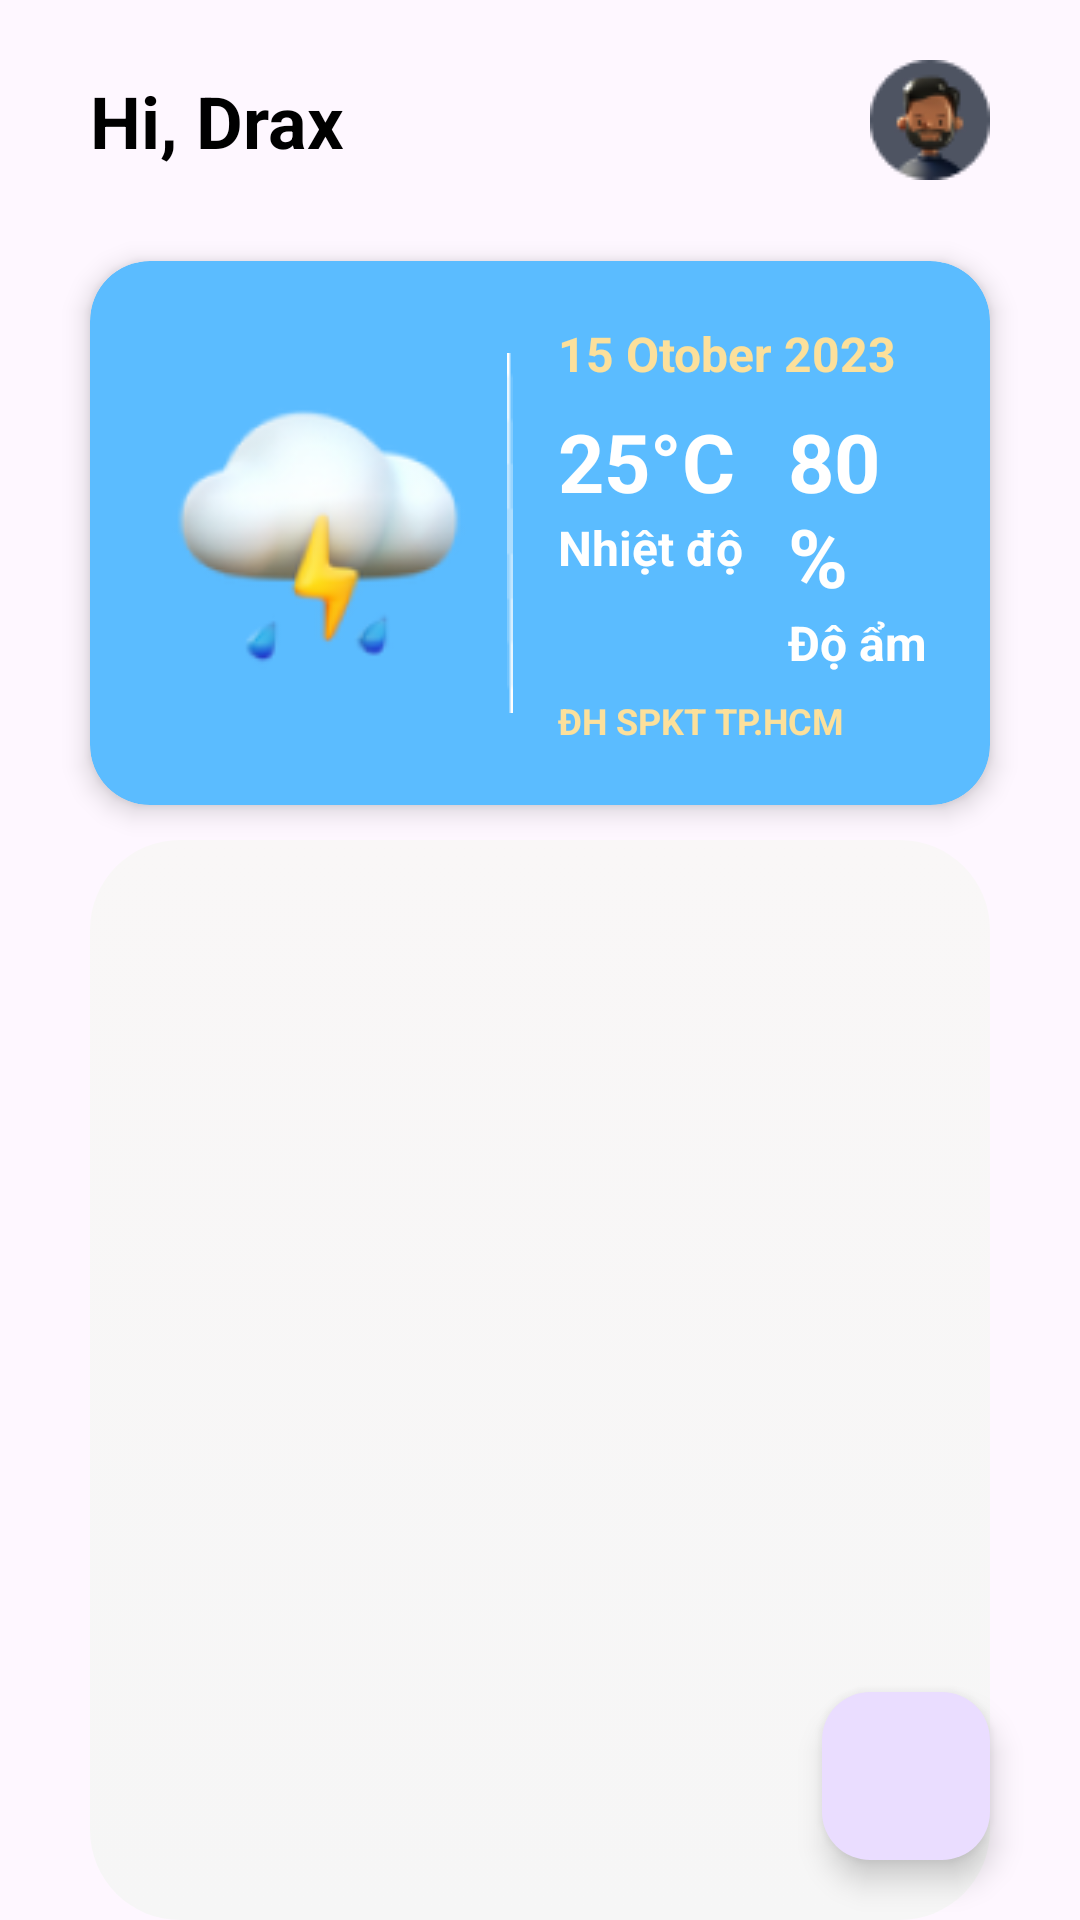

Icon bounding boxes for this 1080*1920 phone screenshot, format (x1, y1, x2, y2):
storm: (180, 411, 458, 661)
